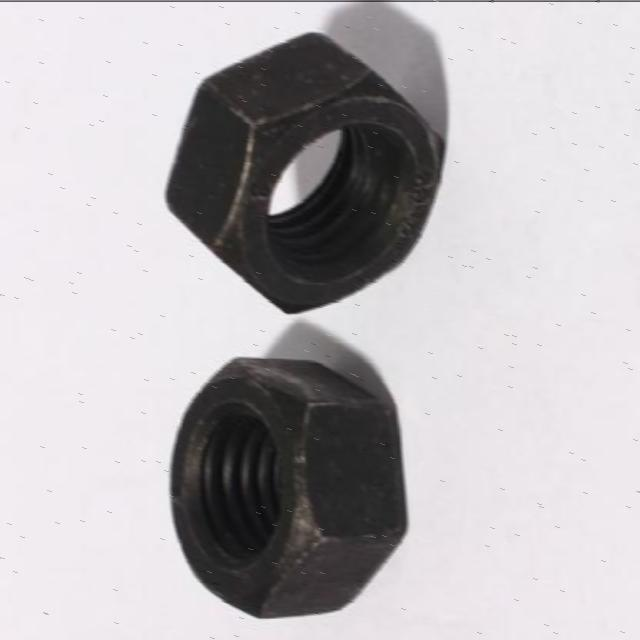Nut: (163, 29, 448, 312), (166, 355, 410, 619)
